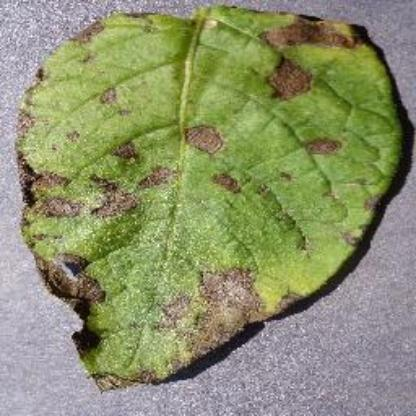Early-Blight: (12, 3, 416, 396)
